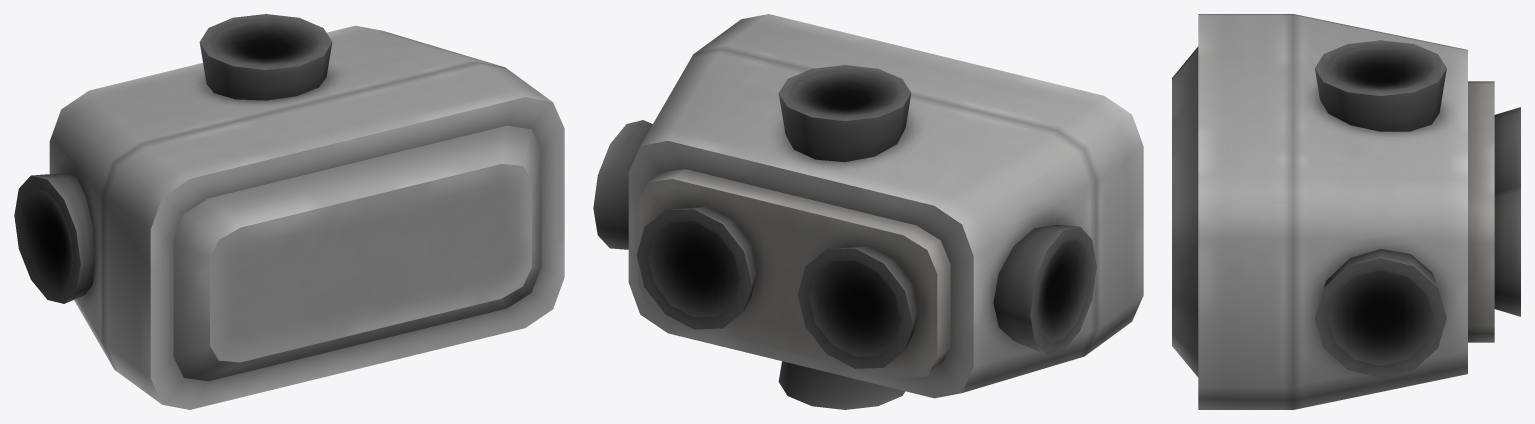
File: Tantares_MOE_1_E.obj
3 renders of one model, left to right at view 1: azimuth 30°, elevation 25°; view 2: azimuth 150°, elevation 25°; view 3: azimuth 270°, elevation 25°, orthographic.
Visible parts, largest first — view 1: Tantares_MOE_1_E; view 2: Tantares_MOE_1_E; view 3: Tantares_MOE_1_E.
Boxes of the visible parts, x1=… form: Tantares_MOE_1_E: x1=14, y1=14, x2=564, y2=409; Tantares_MOE_1_E: x1=593, y1=14, x2=1143, y2=409; Tantares_MOE_1_E: x1=1172, y1=14, x2=1520, y2=409.
Bounding box in the file's own units: 0.2375 × 0.15 × 0.165.
